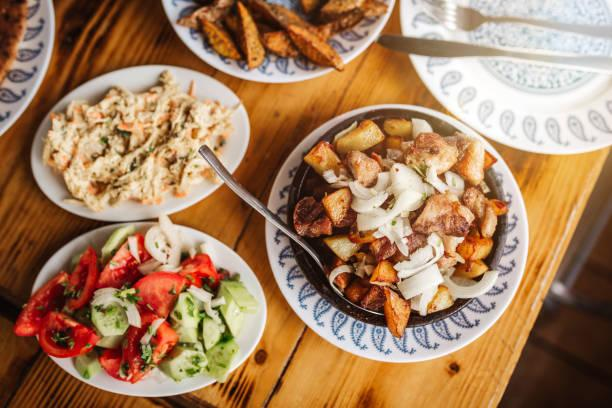Braised Crucian Carp: (265, 103, 524, 362), (32, 219, 268, 398), (30, 65, 244, 221)
